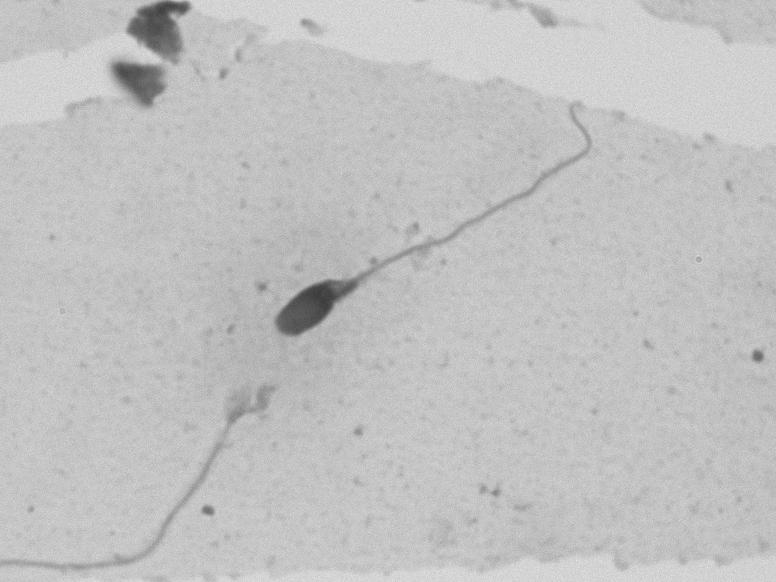Abnormal: (269, 109, 606, 366)
